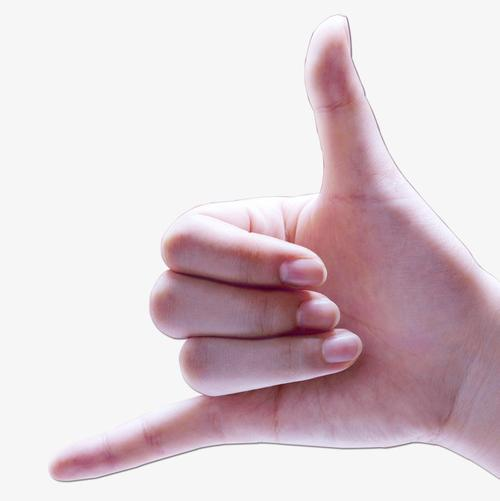clockwise: (43, 11, 475, 487)
